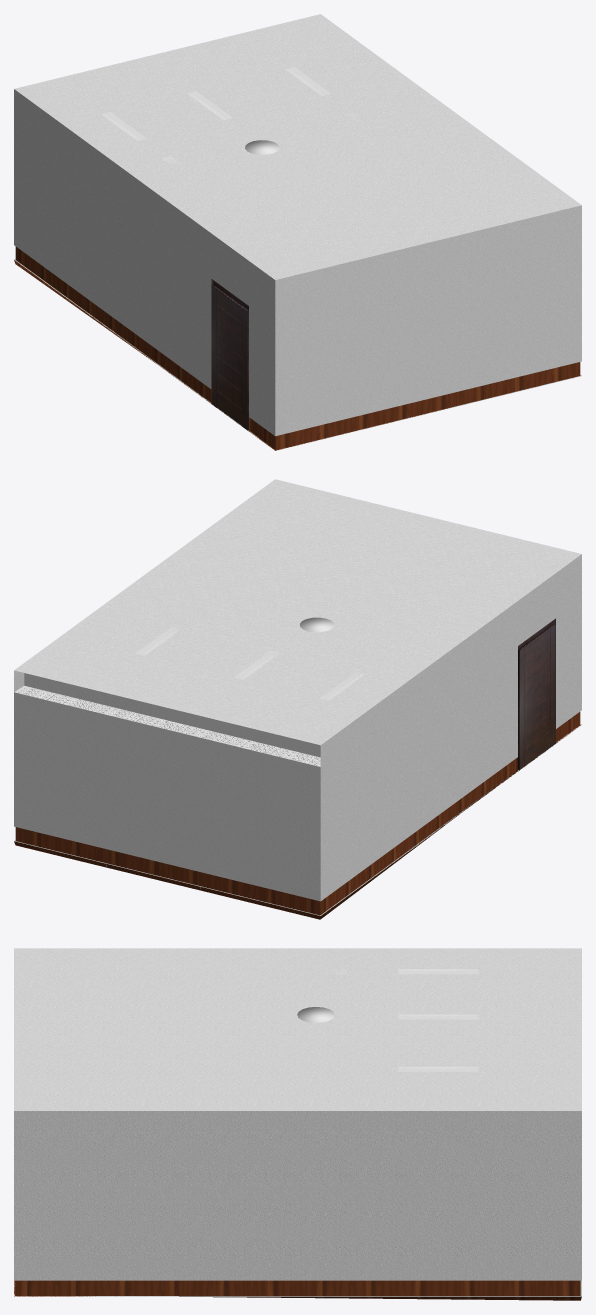
The model's file is OprationRoom.fbx.
The picture shows the model from 3 angles, top to bottom: view 1: azimuth 30°, elevation 25°; view 2: azimuth 150°, elevation 25°; view 3: azimuth 270°, elevation 25°; orthographic projection. The views are drawn at different scales.
Parts seen in each view (by area): view 1: Cube, Cube.002, Cube.001; view 2: Cube, Cube.002, Cube.001; view 3: Cube, Cylinder.004, Light1On.002, Light1On.004, Light1On.005.
Part boxes in pixels (<box>): Cube: <box>14,14,581,450</box>; Cube.002: <box>211,285,247,429</box>; Cube.001: <box>211,279,249,431</box>; Cube: <box>14,479,581,919</box>; Cube.002: <box>519,625,555,769</box>; Cube.001: <box>518,618,555,769</box>; Cube: <box>14,948,581,1300</box>; Cylinder.004: <box>297,1007,334,1022</box>; Light1On.002: <box>398,1066,478,1071</box>; Light1On.004: <box>398,1014,478,1019</box>; Light1On.005: <box>398,969,478,974</box>.
Bounding box in the file's own units: 668 × 364 × 983.
Materials: 17 (12 with a texture image).
